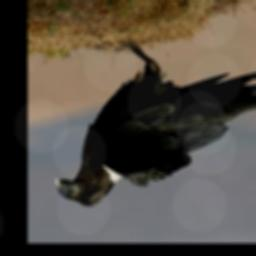Crow: (52, 34, 256, 210)
